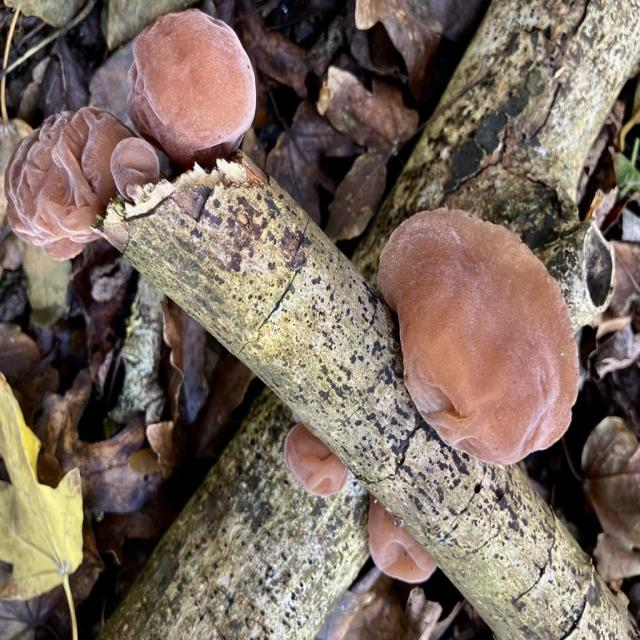Matang: (373, 202, 589, 473), (2, 104, 158, 263), (126, 2, 258, 176), (359, 486, 442, 588), (281, 416, 354, 501), (110, 138, 162, 202)
